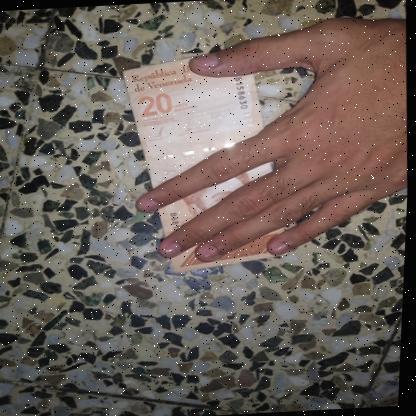vef_front: (115, 51, 297, 274)
